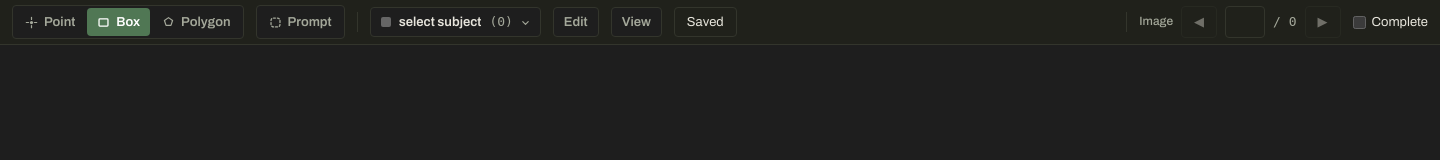
Test: AnnotateToolbar draw mode › counts points in the subject pill alongside boxes, polygons and ratings
Click the button "Point" at [50, 22], box [15, 8, 85, 36]
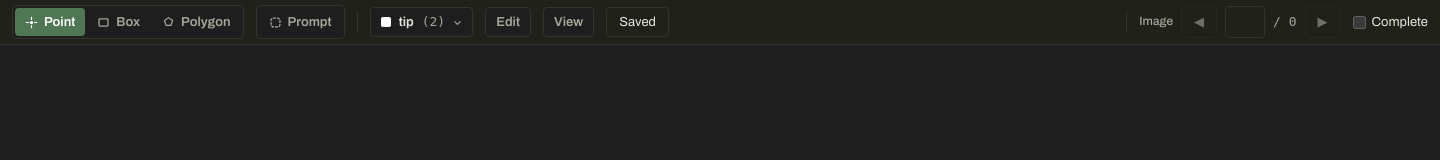
Check: the text "(2)" is shown, box [422, 13, 445, 31]
